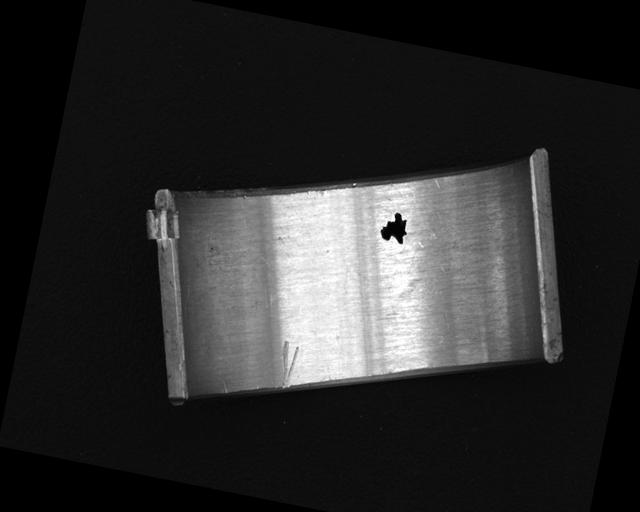blot: (377, 208, 412, 247)
nick: (273, 339, 301, 390), (219, 378, 230, 395)
